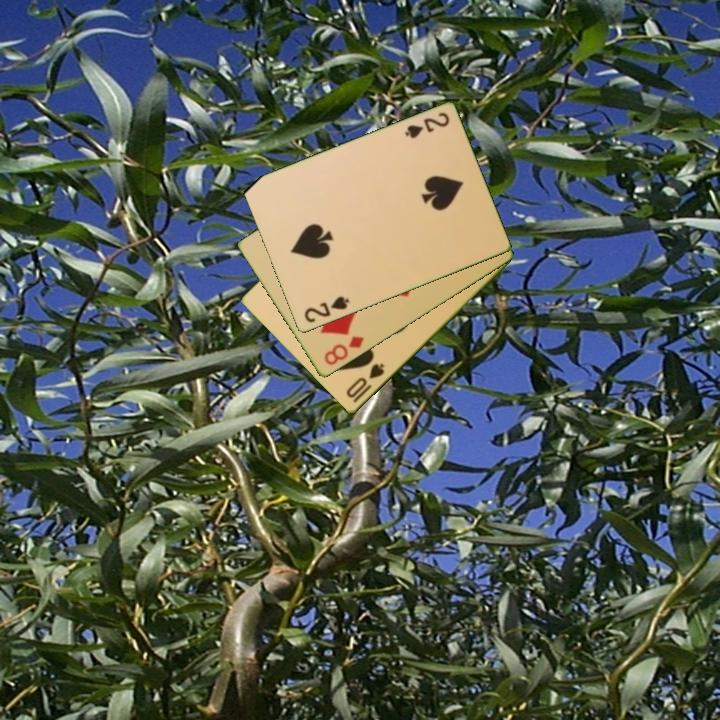10s: (343, 360, 387, 401)
2s: (301, 293, 352, 326), (401, 109, 452, 142)
8d: (320, 333, 367, 369)
